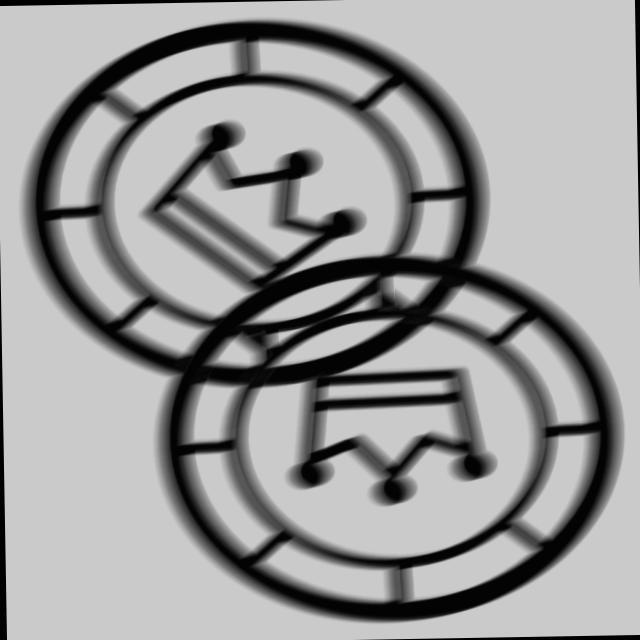coin: (141, 239, 640, 634), (3, 4, 502, 397)
